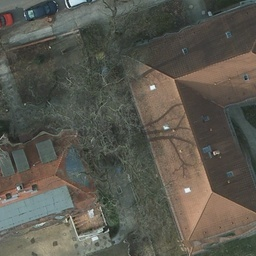car: (23, 3, 57, 17), (1, 13, 12, 30)
